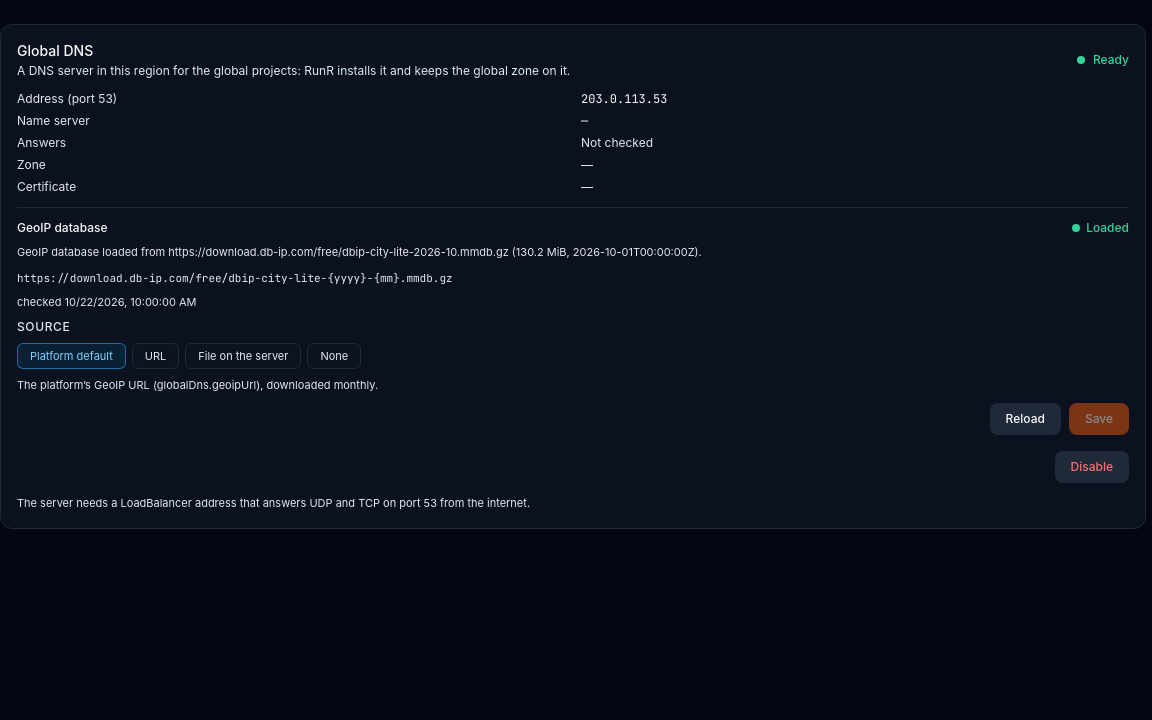
Test case: Region → Global DNS: GeoIP database › sets an operator URL (a mirror, the region object store)
Click the button "URL" at x=156, y=356, box x1=132 y1=343 x2=179 y2=369
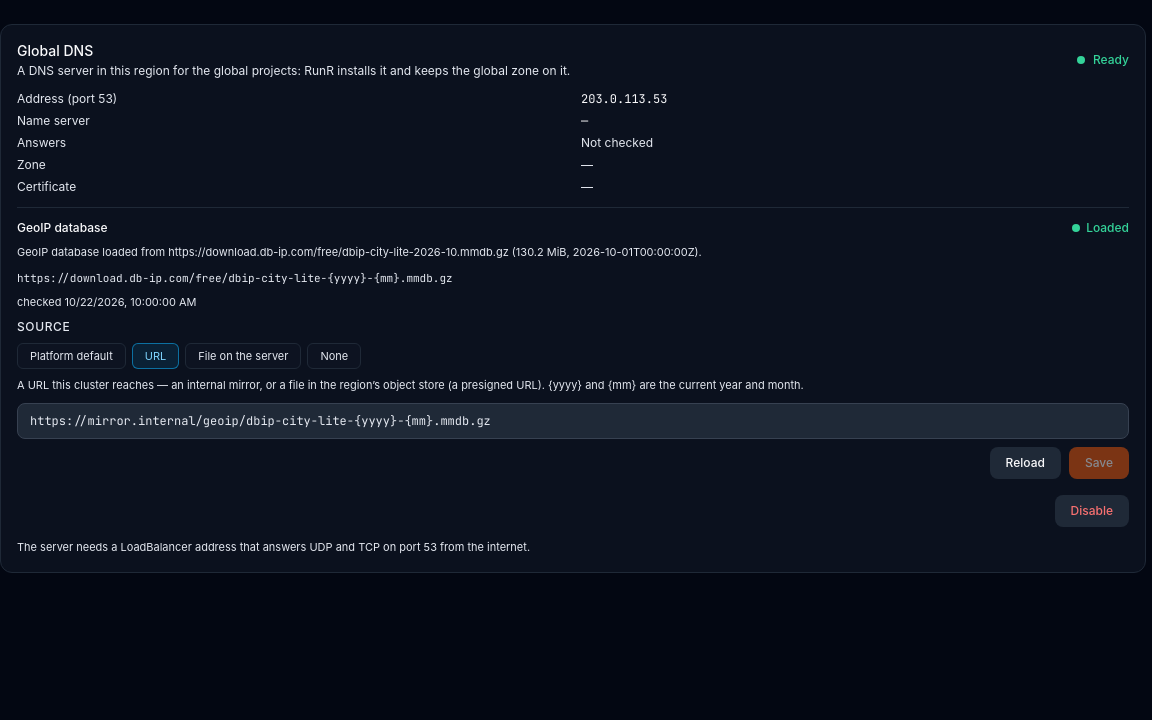
not a URL yet: nothing to save
Replace the text in the field with test id "global-dns-geoip-url" with "mirror.internal/geoip.mmdb.gz" at x=573, y=421, box x1=17 y1=403 x2=1129 y2=439
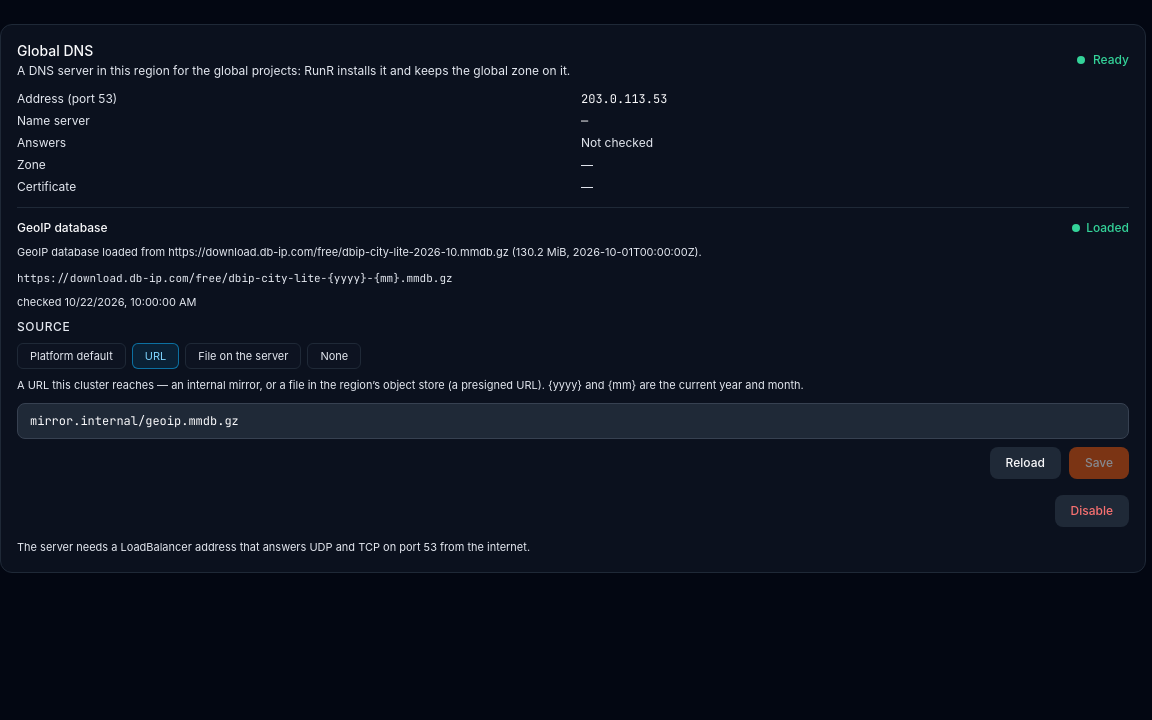
Expected: the button with test id "global-dns-geoip-save" is disabled, x1=1069 y1=447 x2=1129 y2=479
Replace the text in the field with test id "global-dns-geoip-url" with "http://runr-objects.runr-data.svc.cluster.local:3900/geoip/city.mmdb.gz" at x=573, y=421, box x1=17 y1=403 x2=1129 y2=439
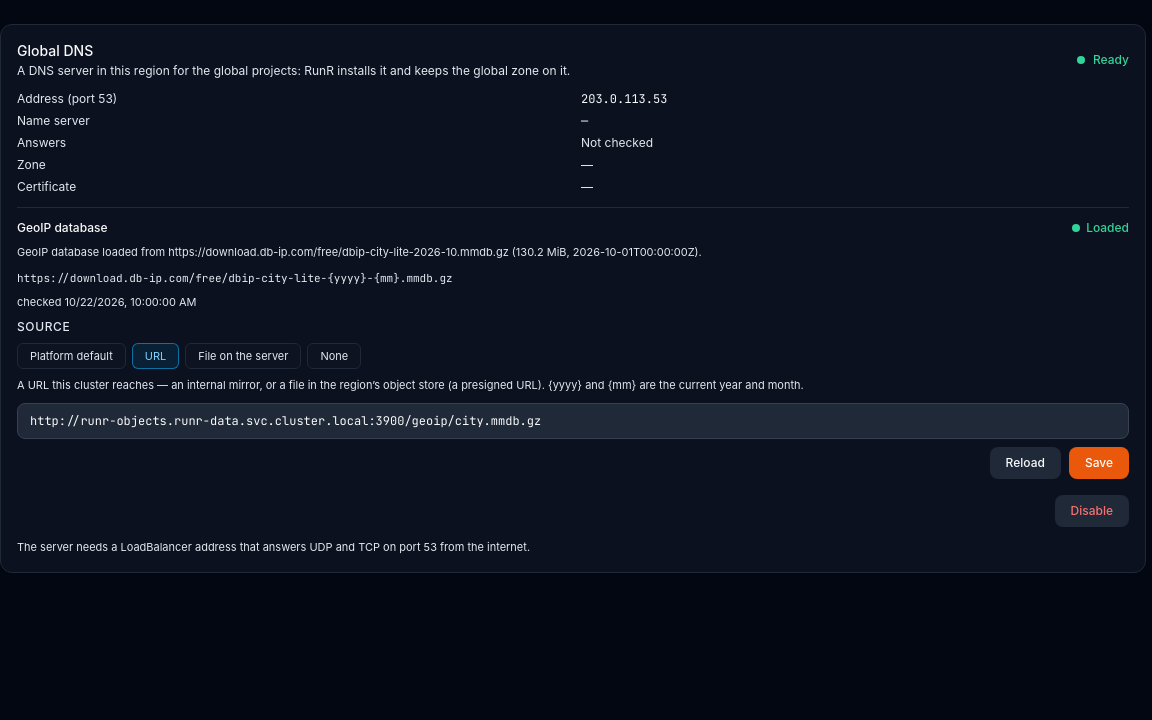
Click the button with test id "global-dns-geoip-save" at x=1099, y=463, box x1=1069 y1=447 x2=1129 y2=479
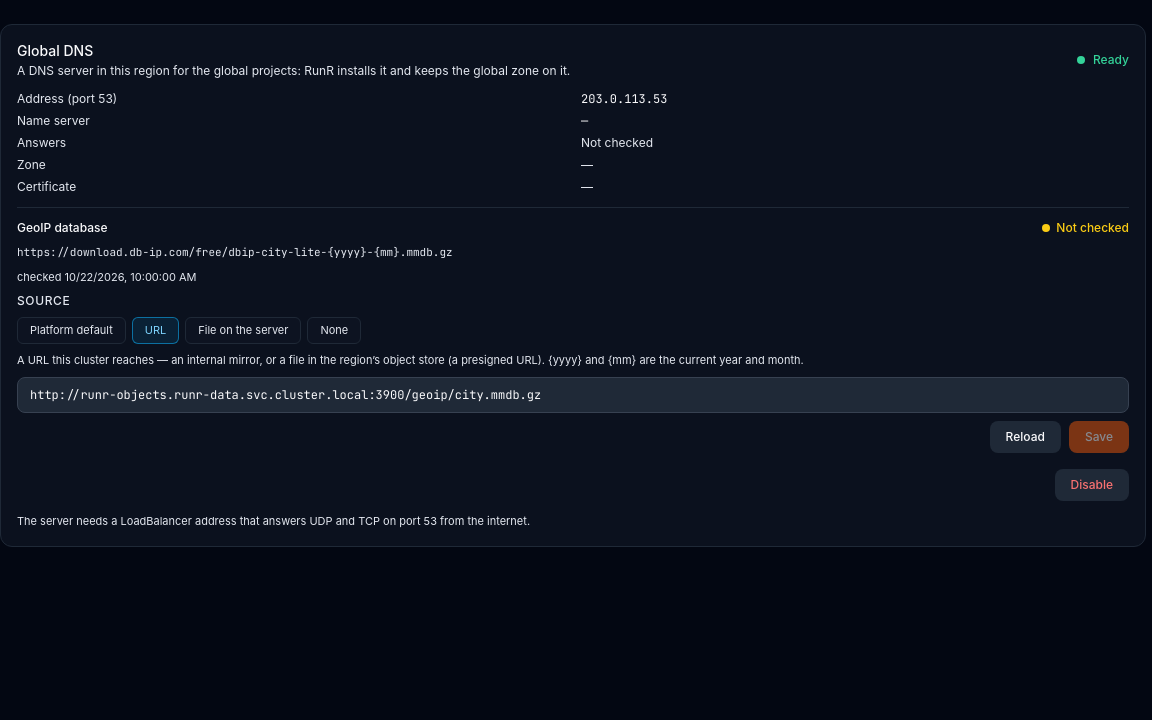
Result: the text with test id "global-dns-geoip-status" reads "Not checked" at x1=1056 y1=220 x2=1129 y2=235
